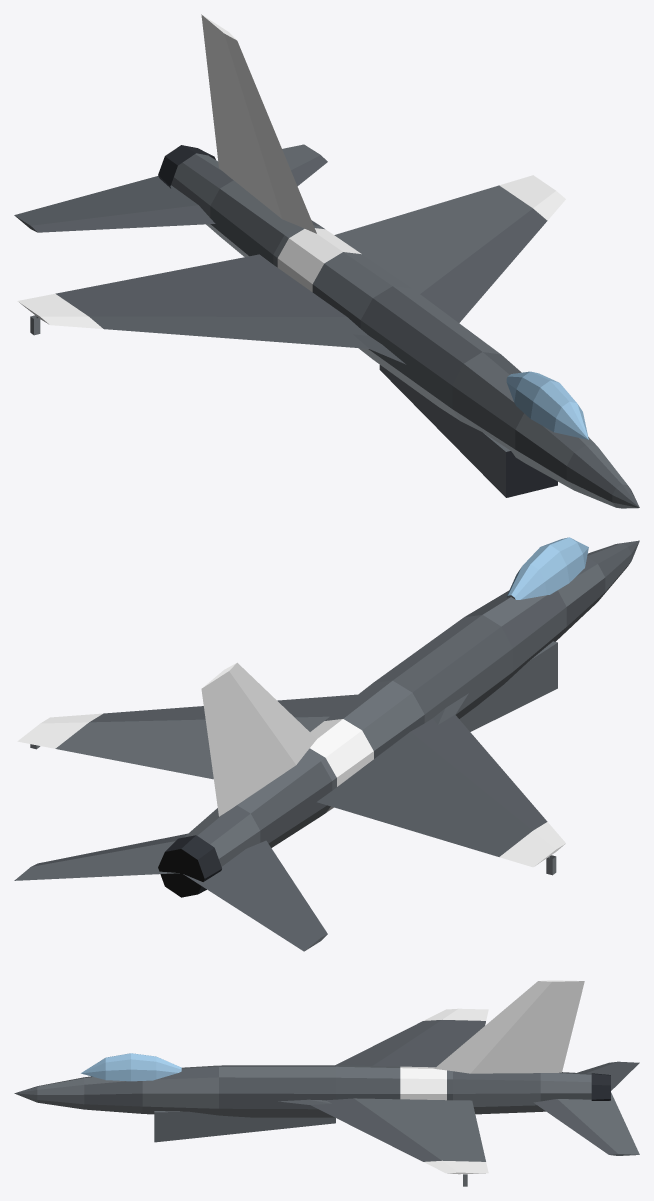
3 views of the same model, one above another, from view 1: azimuth 30°, elevation 25°; view 2: azimuth 150°, elevation 25°; view 3: azimuth 270°, elevation 25° (orthographic). The views are drawn at different scales.
Parts seen in each view (by area): view 1: body; view 2: body; view 3: body.
Boxes of the visible parts, <box> form: body: <box>14,14,639,508</box>; body: <box>14,537,639,951</box>; body: <box>14,980,639,1186</box>.
Bounding box in the file's own units: 10.08 × 4.34 × 16.08.
